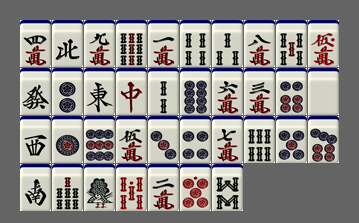0m: (308, 20, 339, 67)
0p: (180, 164, 211, 211)
0s: (116, 164, 147, 211)
1m: (148, 20, 179, 67)
1p: (52, 116, 83, 163)
1s: (84, 164, 115, 211)
1z: (84, 68, 115, 115)
2m: (148, 164, 179, 211)
2p: (52, 68, 83, 115)
2s: (148, 68, 179, 115)
2z: (20, 164, 51, 211)
3m: (244, 68, 275, 115)
3p: (148, 116, 179, 163)
3s: (212, 20, 243, 67)
3z: (20, 116, 51, 163)
4m: (20, 20, 51, 67)
4p: (180, 116, 211, 163)
4s: (180, 20, 211, 67)
4z: (52, 20, 83, 67)
5m: (116, 116, 147, 163)
5p: (276, 116, 307, 163)
5s: (276, 20, 307, 67)
5z: (308, 68, 339, 115)
6m: (212, 68, 243, 115)
6p: (276, 68, 307, 115)
6s: (244, 116, 275, 163)
6z: (20, 68, 51, 115)
7m: (212, 116, 243, 163)
7p: (308, 116, 339, 163)
7s: (52, 164, 83, 211)
7z: (116, 68, 147, 115)
8m: (244, 20, 275, 67)
8p: (180, 68, 211, 115)
8s: (212, 164, 243, 211)
9m: (84, 20, 115, 67)
9p: (84, 116, 115, 163)
9s: (116, 20, 147, 67)
